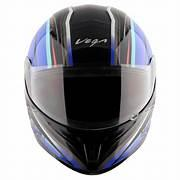Helmet: (25, 5, 155, 171)
